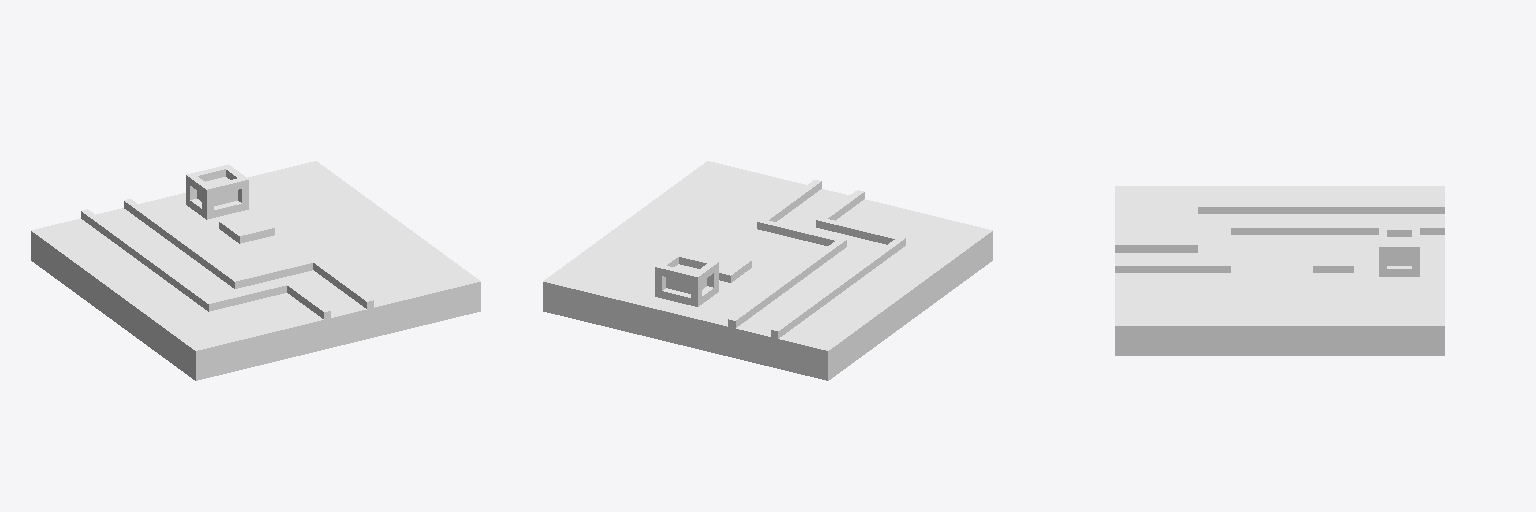
File: Vulcano1.obj
3 renders of one model, left to right at view 1: azimuth 30°, elevation 25°; view 2: azimuth 150°, elevation 25°; view 3: azimuth 270°, elevation 25°, orthographic.
Visible parts, largest first — view 1: object 1; view 2: object 1; view 3: object 1.
Boxes of the visible parts, x1,y1,x2,y2 form: object 1: [31, 161, 480, 380]; object 1: [543, 161, 992, 380]; object 1: [1115, 186, 1444, 355].
Bounding box in the file's own units: 4 × 0.8 × 4.